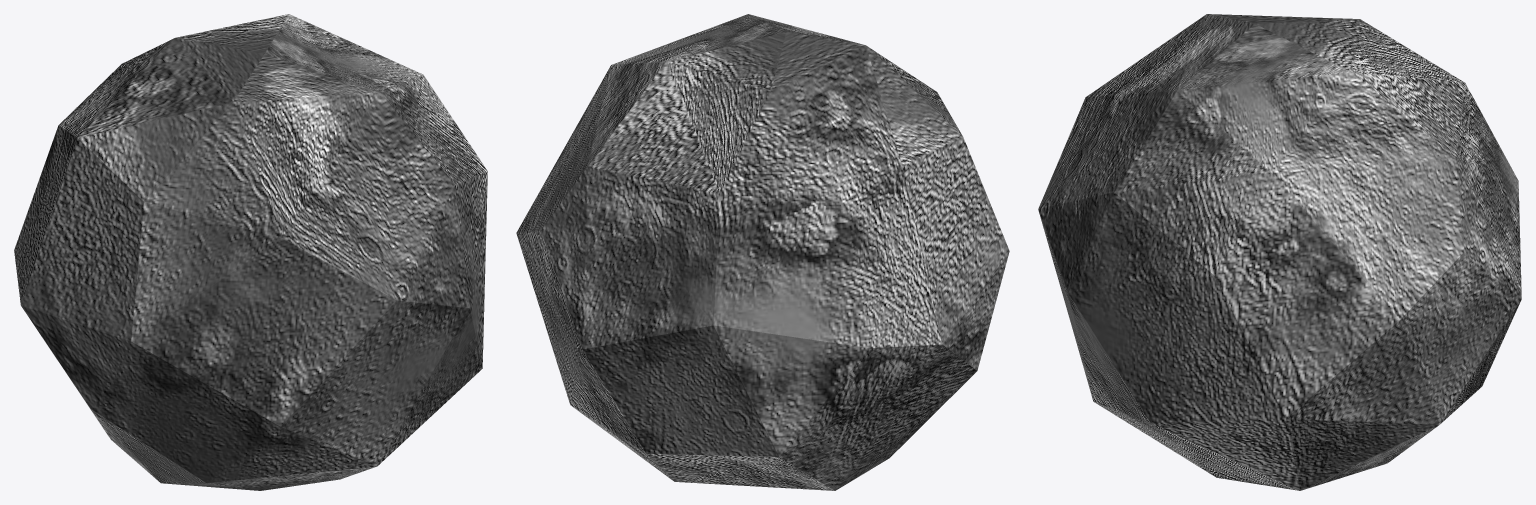
File: asteroid_proj.obj
The picture shows the model from 3 angles, left to right: view 1: azimuth 30°, elevation 25°; view 2: azimuth 150°, elevation 25°; view 3: azimuth 270°, elevation 25°; orthographic projection.
Parts seen in each view (by area): view 1: Sphere; view 2: Sphere; view 3: Sphere.
Boxes of the visible parts, x1,y1,x2,y2 form: Sphere: (14, 14, 487, 490); Sphere: (516, 14, 1009, 490); Sphere: (1038, 14, 1521, 490).
Bounding box in the file's own units: 2 × 2.03 × 2.01.
1 material, 1 textured.
